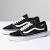shoe: (2, 10, 50, 42)
